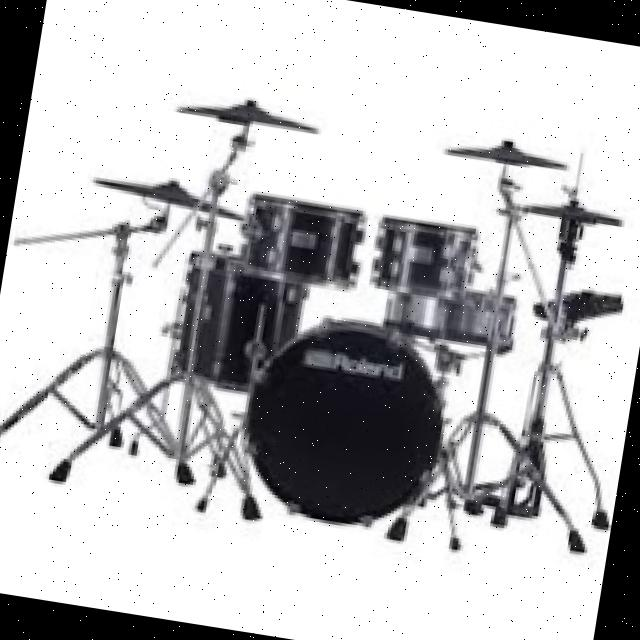drums: (0, 56, 640, 583)
